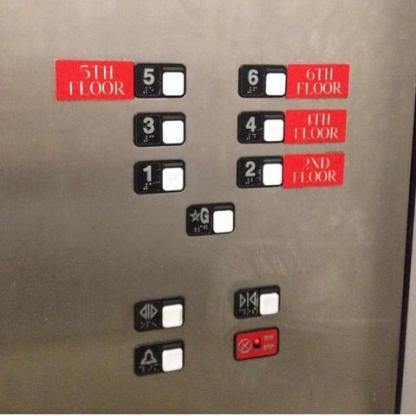1: (131, 156, 186, 196)
2: (233, 151, 284, 188)
3: (130, 107, 185, 148)
4: (234, 107, 285, 146)
5: (131, 60, 186, 98)
6: (236, 62, 287, 100)
alarm: (131, 336, 185, 376)
close: (230, 282, 280, 318)
open: (131, 293, 185, 332)
sG: (183, 198, 236, 236)
stop: (231, 322, 279, 362)
